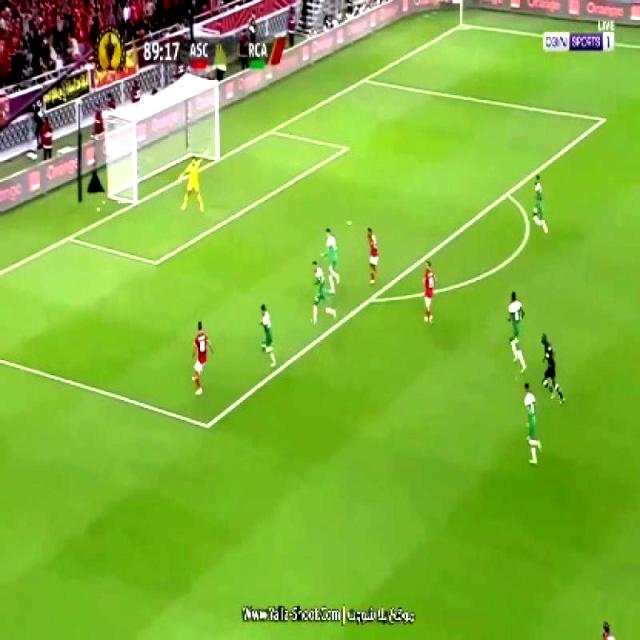bigarea_bottom_inner: (195, 409, 215, 439)
bigarea_top_inner: (594, 108, 611, 130)
bigarea_top_outter: (356, 69, 370, 89)
bottom_arc_area_intersection: (362, 288, 378, 309)
corner: (452, 18, 471, 32)
smallarea_bottom_inner: (146, 248, 164, 274)
smallarea_bottom_outter: (60, 226, 78, 248)
smallarea_top_inner: (336, 137, 354, 158)
smallarea_top_outter: (264, 120, 278, 140)
top_arc_area_intersection: (498, 183, 514, 203)
